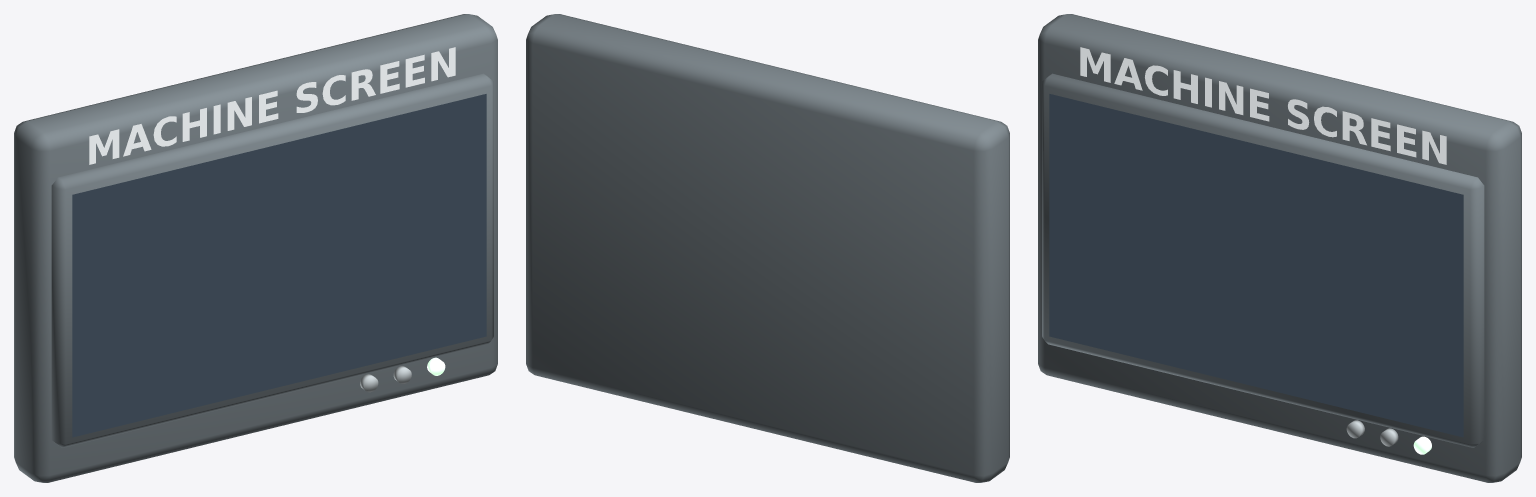
File: machine_screen_enhanced.glb
3 views of the same model, side by side, from view 1: azimuth 30°, elevation 25°; view 2: azimuth 150°, elevation 25°; view 3: azimuth 330°, elevation 25° (orthographic).
Visible parts, largest first — view 1: LiveViewSurface_glass, DisplayHousing_frame, LiveViewSurfaceFrame_frame, TypeLabel_white, Controls_steel; view 2: DisplayHousing_frame; view 3: LiveViewSurface_glass, DisplayHousing_frame, LiveViewSurfaceFrame_frame, TypeLabel_white, Controls_steel.
Part boxes in pixels (x1,y1,x2,y2): LiveViewSurface_glass: [72, 94, 486, 437]; DisplayHousing_frame: [14, 14, 497, 482]; LiveViewSurfaceFrame_frame: [51, 73, 493, 447]; TypeLabel_white: [89, 47, 455, 164]; Controls_steel: [360, 366, 411, 392]; DisplayHousing_frame: [526, 14, 1009, 482]; LiveViewSurface_glass: [1049, 94, 1463, 437]; DisplayHousing_frame: [1038, 14, 1521, 482]; LiveViewSurfaceFrame_frame: [1042, 73, 1484, 447]; TypeLabel_white: [1080, 47, 1446, 164]; Controls_steel: [1346, 420, 1398, 446].
Size of the model in its own units: 1.18 by 0.848 by 0.168.
